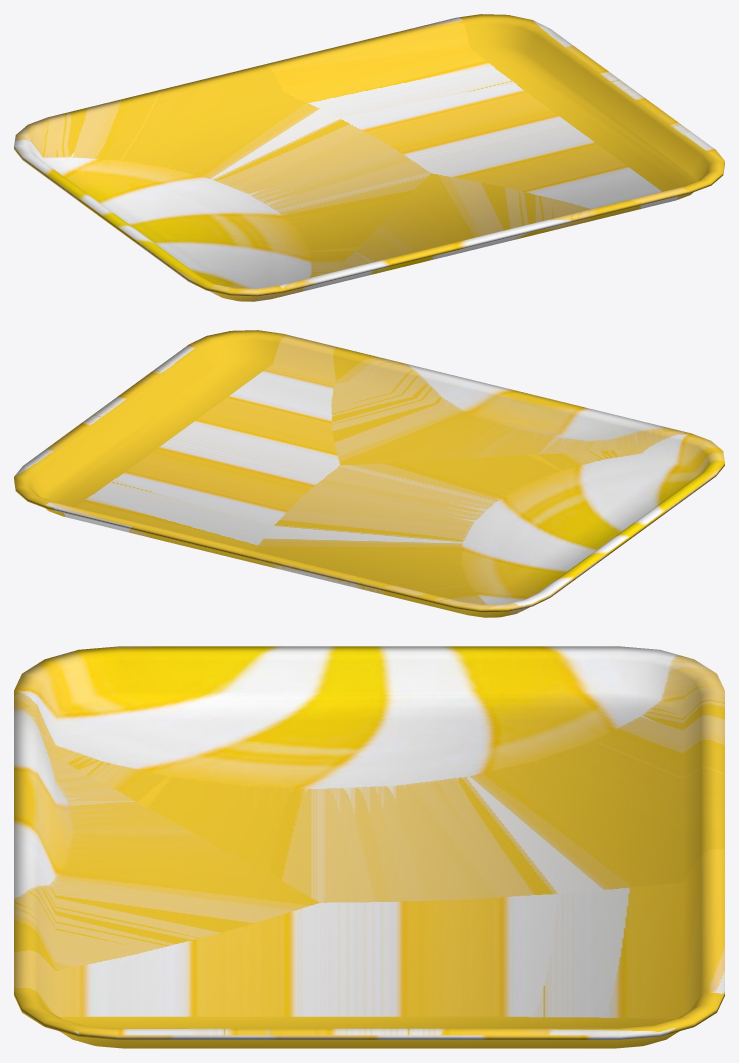
Rendered from tray-Unity.fbx.
The picture shows the model from 3 angles, top to bottom: view 1: azimuth 30°, elevation 25°; view 2: azimuth 150°, elevation 25°; view 3: azimuth 270°, elevation 25°; orthographic projection. The views are drawn at different scales.
Visible parts, largest first — view 1: Cube_0; view 2: Cube_0; view 3: Cube_0.
Part boxes in pixels (<box>): Cube_0: <box>14,14,724,301</box>; Cube_0: <box>14,330,724,617</box>; Cube_0: <box>14,646,724,1048</box>.
Bounding box in the file's own units: 220 × 8.75 × 170.
